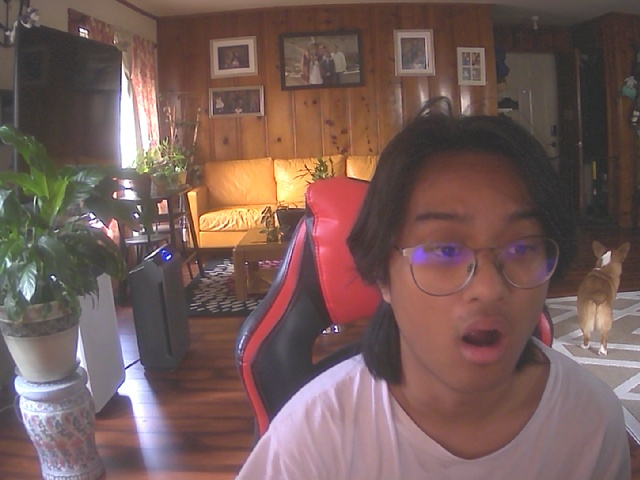fear: (372, 125, 562, 397)
